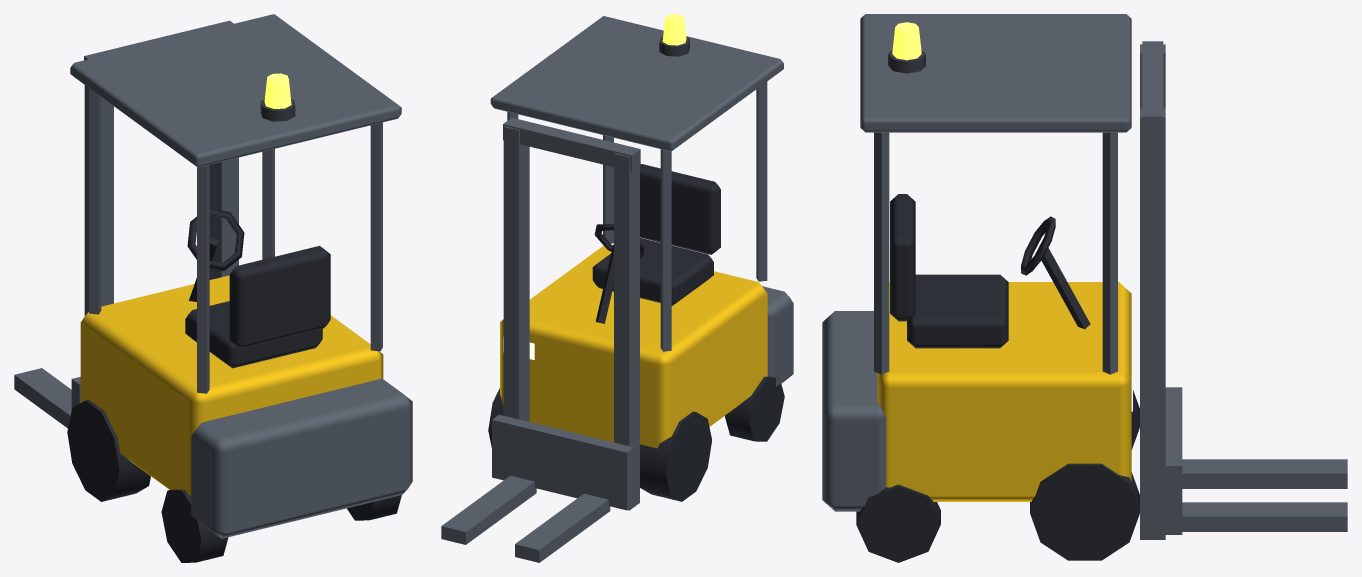
Rendered from station_buffer_ausstattung_2_2.glb.
The picture shows the model from 3 angles, left to right: view 1: azimuth 30°, elevation 25°; view 2: azimuth 150°, elevation 25°; view 3: azimuth 270°, elevation 25°; orthographic projection. The views are drawn at different scales.
Visible parts, largest first — view 1: station_buffer_ausstattung_2_2; view 2: station_buffer_ausstattung_2_2; view 3: station_buffer_ausstattung_2_2.
Part boxes in pixels (x1=…): station_buffer_ausstattung_2_2: x1=14, y1=14, x2=412, y2=562; station_buffer_ausstattung_2_2: x1=441, y1=14, x2=793, y2=562; station_buffer_ausstattung_2_2: x1=822, y1=14, x2=1347, y2=562.
Size of the model in its own units: 0.6 by 1.26 by 1.24.
